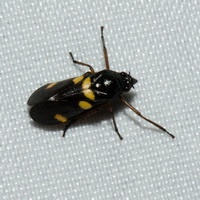insect: (27, 26, 174, 138)
